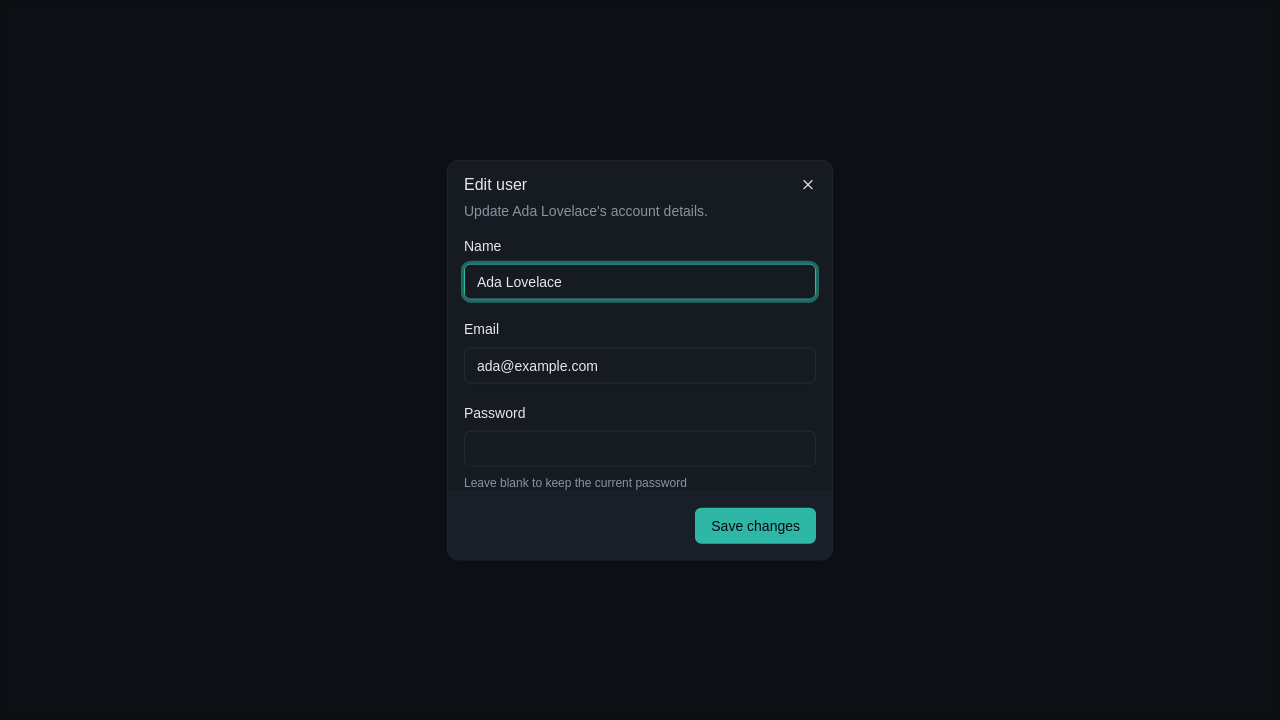
it: EditUserDialog › shows a server error inline and keeps the dialog open
This screenshot has width=1280, height=720.
Click the button "Save changes": click(756, 525) [695,507,816,543]
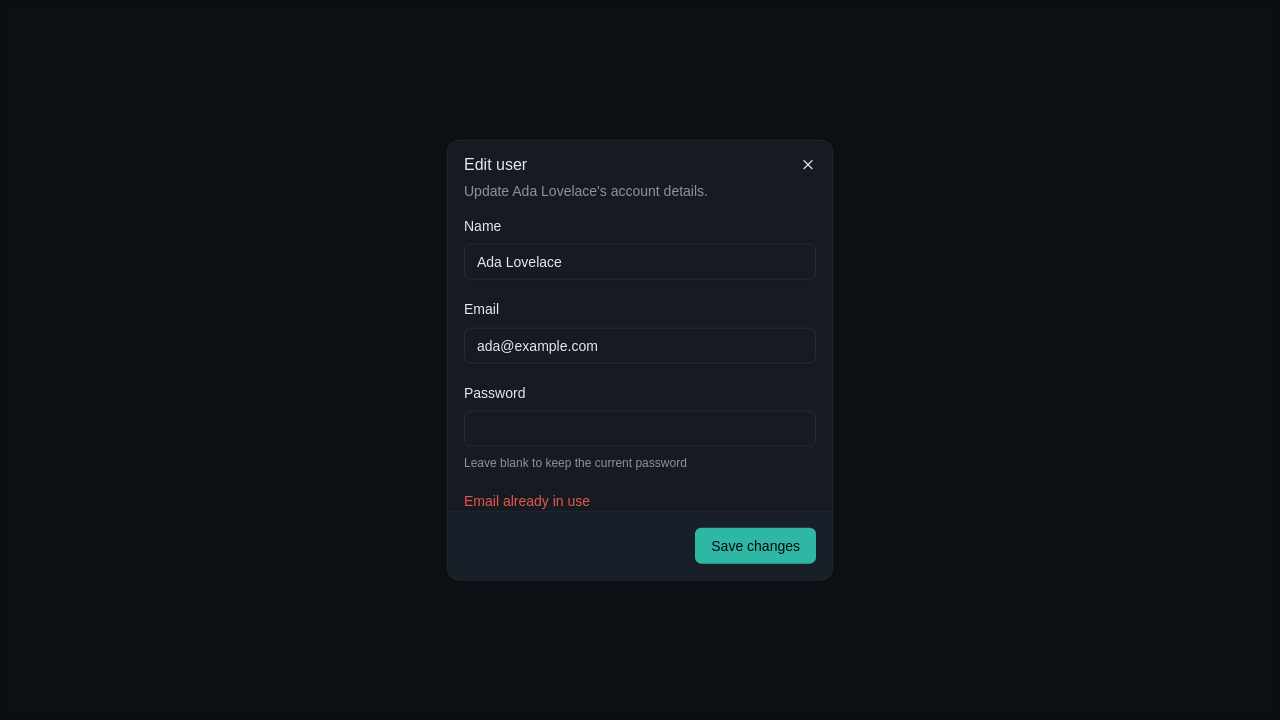
Check: the dialog is shown, box [448,141,832,579]
Check: the text "Email already in use" is shown, box [464,492,590,508]
